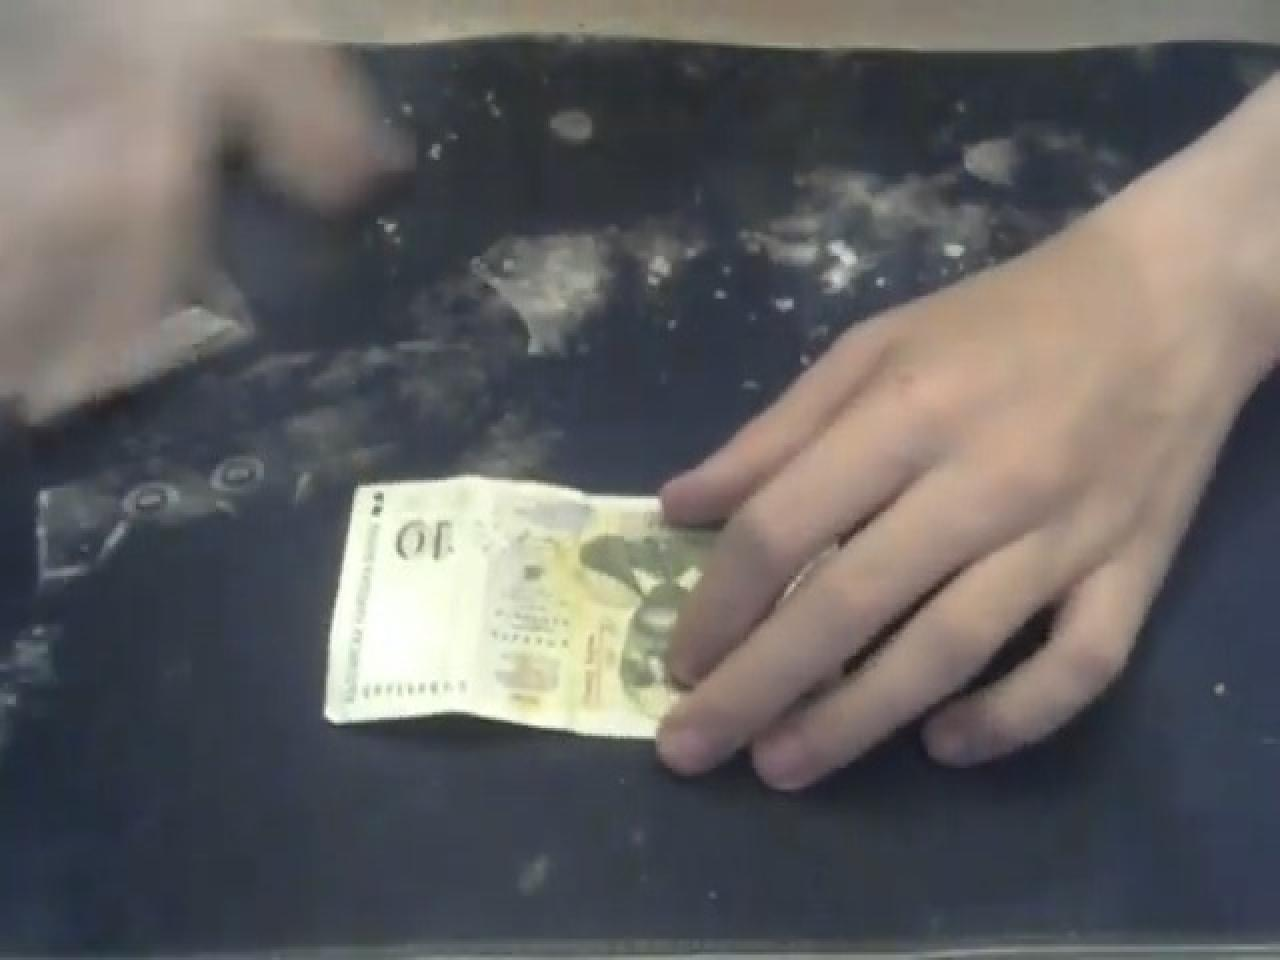10leva: (376, 504, 471, 586)
